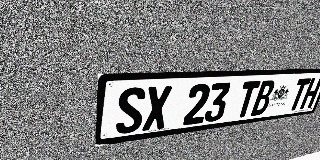2: (183, 83, 212, 126)
3: (203, 82, 231, 123)
B: (250, 80, 276, 116)
H: (299, 78, 320, 109)
S: (115, 87, 146, 135)
T: (234, 81, 261, 118), (287, 78, 311, 111)
X: (142, 85, 172, 131)
